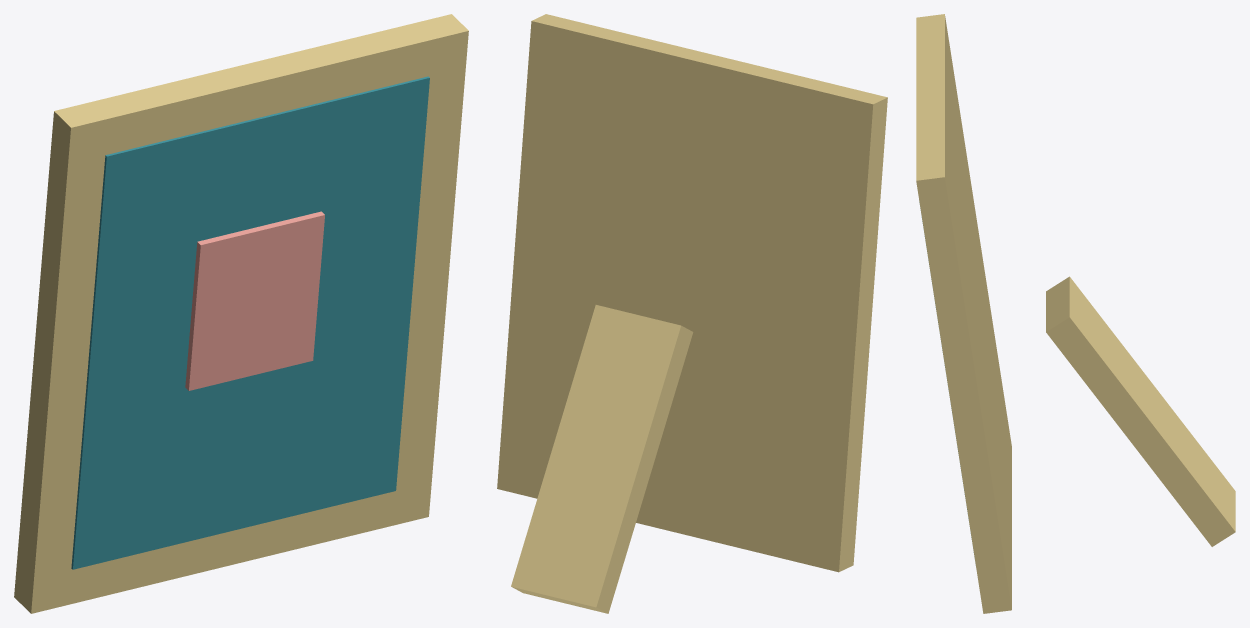
Rendered from bb_set_photoframe.fbx.
3 renders of one model, left to right at view 1: azimuth 30°, elevation 25°; view 2: azimuth 150°, elevation 25°; view 3: azimuth 270°, elevation 25°, orthographic. The views are drawn at different scales.
Visible parts, largest first — view 1: bb_set_photoframe; view 2: bb_set_photoframe; view 3: bb_set_photoframe.
Part boxes in pixels (<box>): bb_set_photoframe: <box>14,14,468,613</box>; bb_set_photoframe: <box>497,14,887,613</box>; bb_set_photoframe: <box>916,14,1235,613</box>.
Bounding box in the file's own units: 0.16 × 0.1997 × 0.1324.
